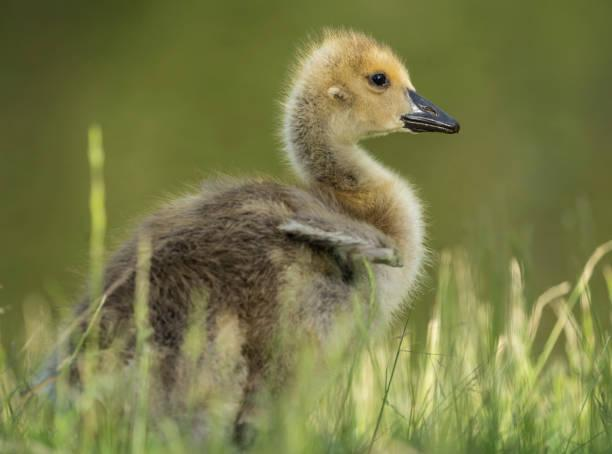Canadian-Goose: (54, 26, 460, 410)
